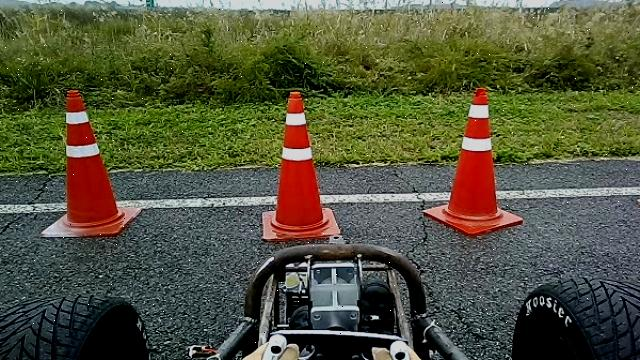red cone: (421, 87, 524, 236), (39, 88, 141, 238), (260, 89, 342, 241)
